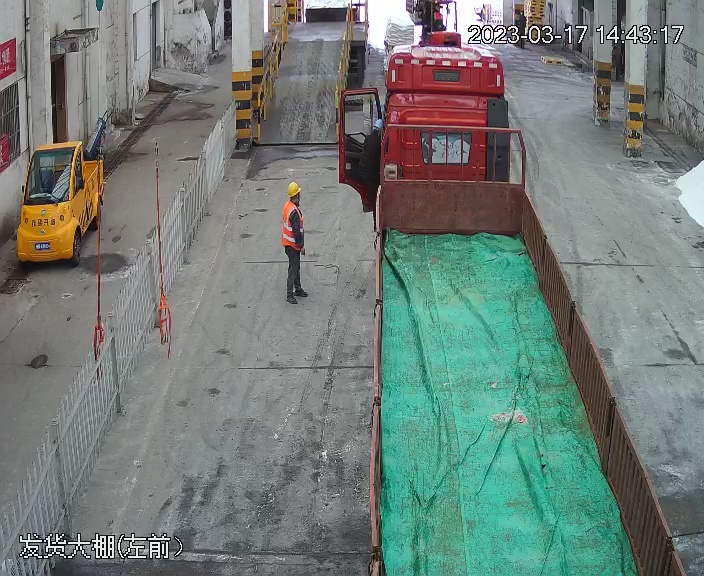head: (281, 180, 304, 219)
helmet: (286, 180, 303, 197)
people: (280, 178, 310, 305)
truck: (352, 43, 698, 573)
